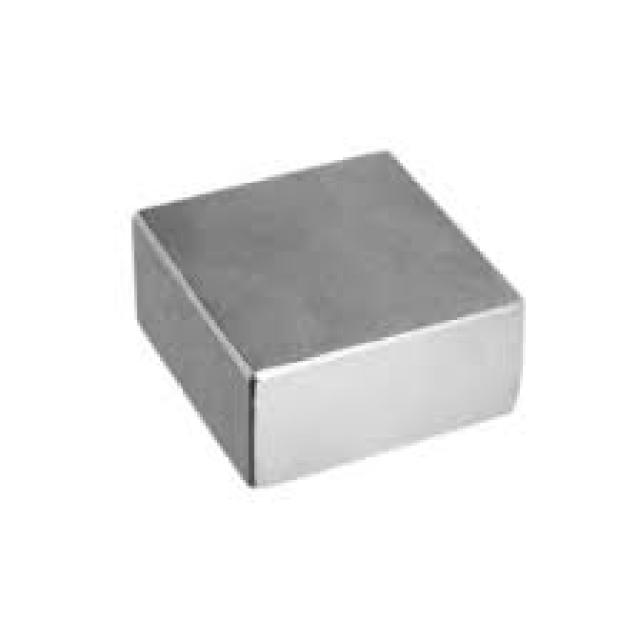Milling: (72, 86, 572, 548)
